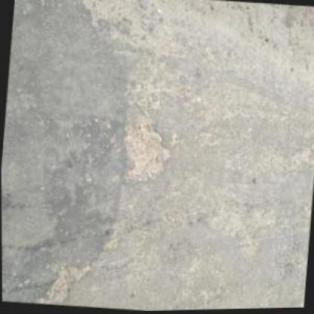Hueco: (119, 119, 176, 189), (45, 268, 70, 305)
